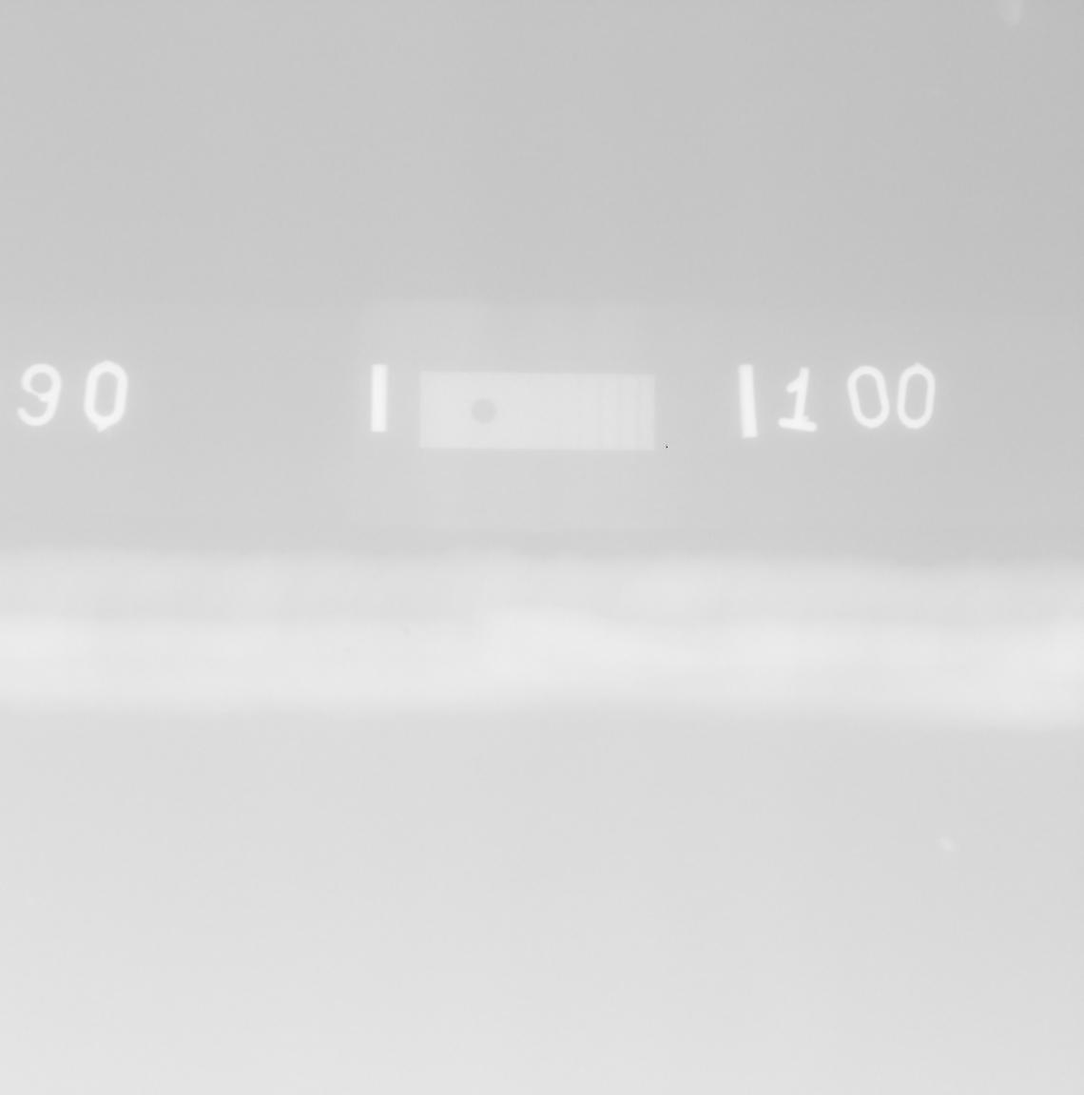Pore/Porosity: (402, 626, 409, 635), (344, 648, 351, 654)
Reference Standard 1: (420, 371, 655, 451)
